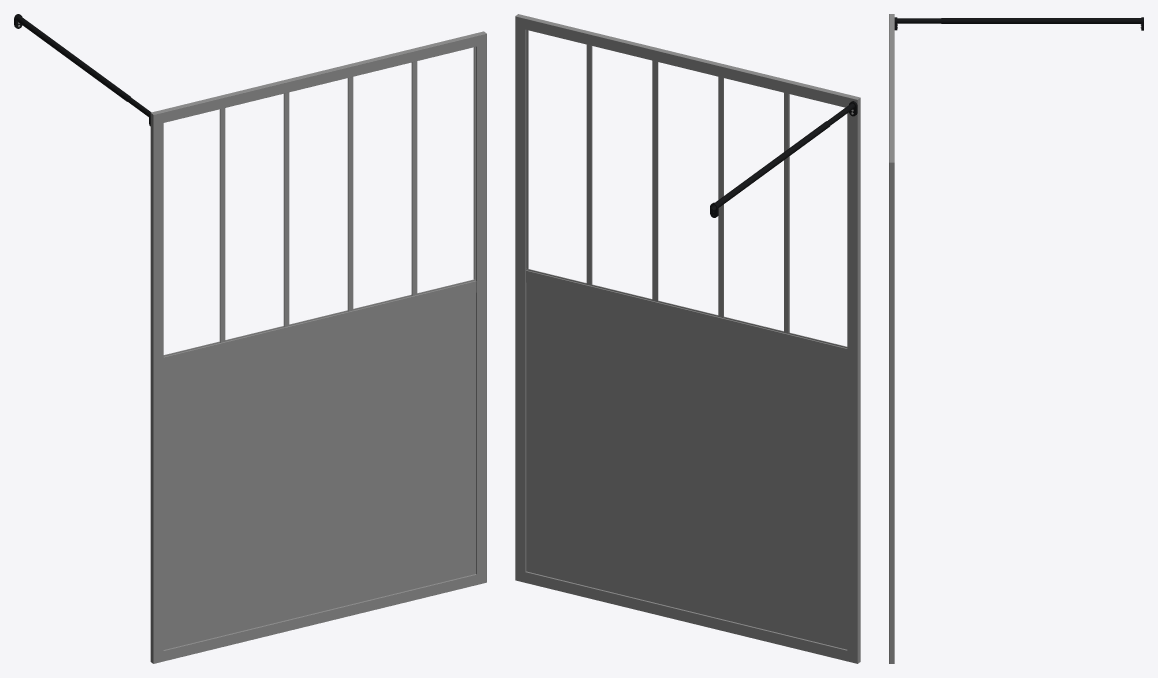
The picture shows the model from 3 angles, left to right: view 1: azimuth 30°, elevation 25°; view 2: azimuth 150°, elevation 25°; view 3: azimuth 270°, elevation 25°; orthographic projection. The views are drawn at different scales.
Visible parts, largest first — view 1: Rectangle191, Rectangle190, Rectangle179, Rectangle180, Rectangle181, Rectangle182, Rectangle183, Tube002; view 2: Rectangle191, Rectangle190, Rectangle179, Rectangle180, Rectangle181, Rectangle182, Rectangle183, Tube002; view 3: Rectangle190, Tube002.
Part boxes in pixels (bbox=[...]): Rectangle191: bbox=[163, 293, 475, 649]; Rectangle190: bbox=[150, 31, 486, 663]; Rectangle179: bbox=[163, 279, 476, 368]; Rectangle180: bbox=[411, 61, 417, 295]; Rectangle181: bbox=[347, 77, 353, 311]; Rectangle182: bbox=[283, 92, 289, 327]; Rectangle183: bbox=[219, 108, 225, 342]; Tube002: bbox=[16, 15, 130, 101]; Rectangle191: bbox=[526, 282, 847, 649]; Rectangle190: bbox=[515, 14, 860, 663]; Rectangle179: bbox=[526, 269, 847, 360]; Rectangle180: bbox=[586, 44, 592, 285]; Rectangle181: bbox=[652, 60, 658, 301]; Rectangle182: bbox=[718, 76, 723, 318]; Rectangle183: bbox=[784, 93, 789, 334]; Tube002: bbox=[711, 121, 830, 210]; Rectangle190: bbox=[889, 14, 894, 663]; Tube002: bbox=[941, 18, 1141, 23].
Bounding box in the file's own units: 1376 × 2166 × 998.
2 materials, 1 textured.
